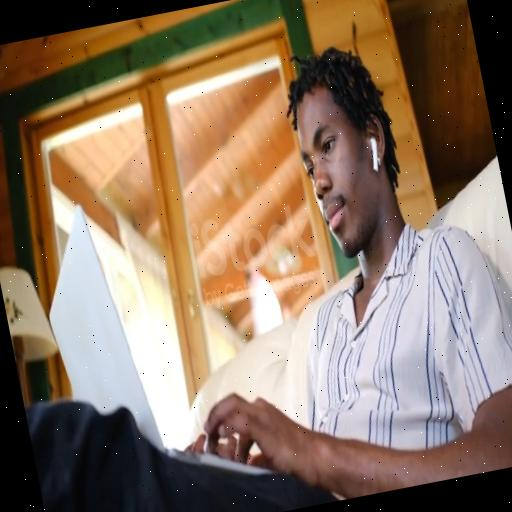earphone: (366, 132, 384, 174)
